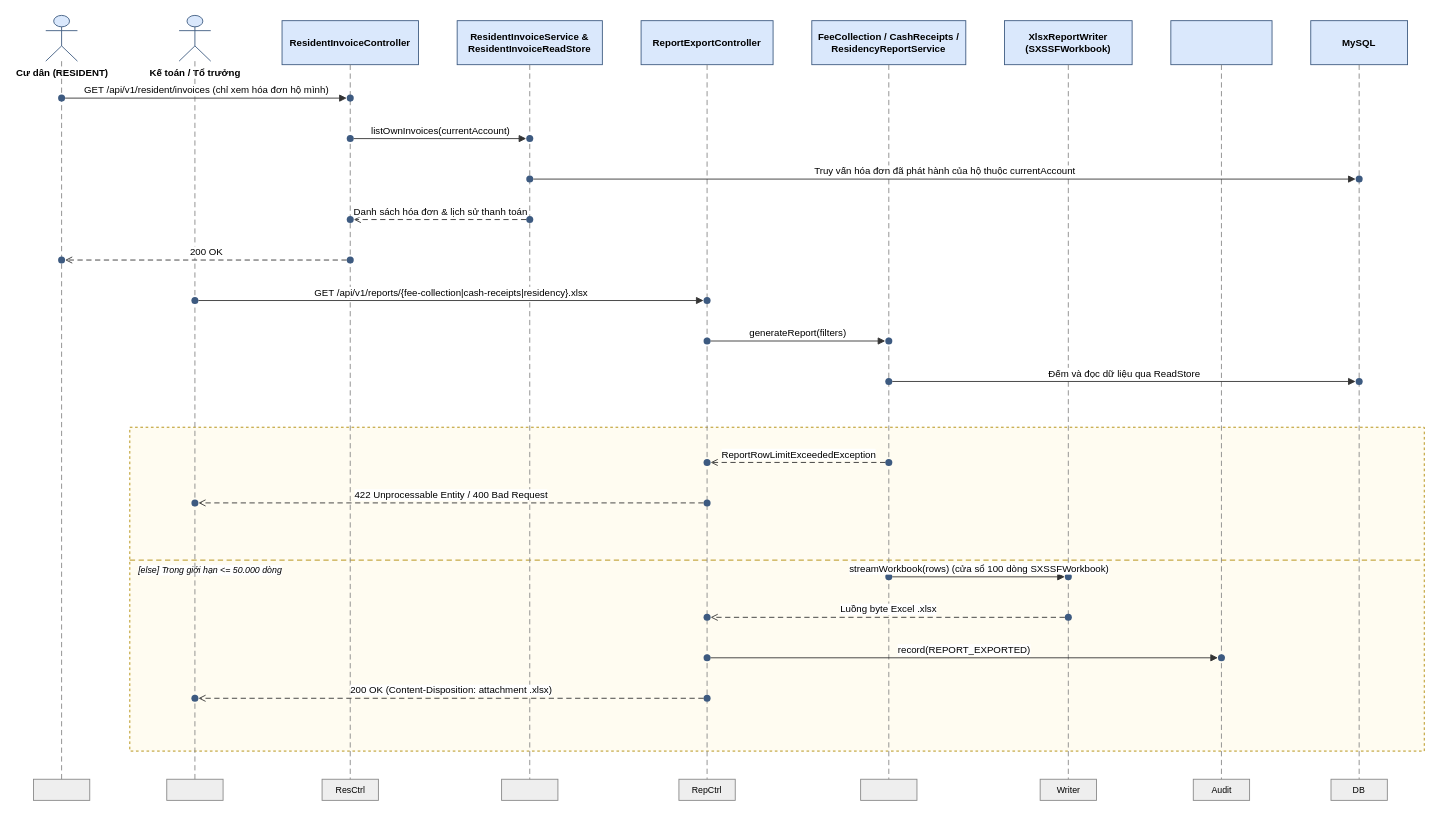
Some shapes in this 1440 by 816 pixel diagram are drawn without their labels. The shapes that lost their labels are listed below. From the top down, each one's box as (x1, y1, x2, y2) in pixels, then its label:
(1170, 20, 1272, 65): AuditService
(129, 426, 1424, 751): [alt] Vượt quá 50.000 dòng dữ liệu
(33, 778, 90, 800): Resident
(166, 778, 223, 800): Staff
(501, 778, 558, 800): ResSvc
(860, 778, 917, 800): RepSvc
